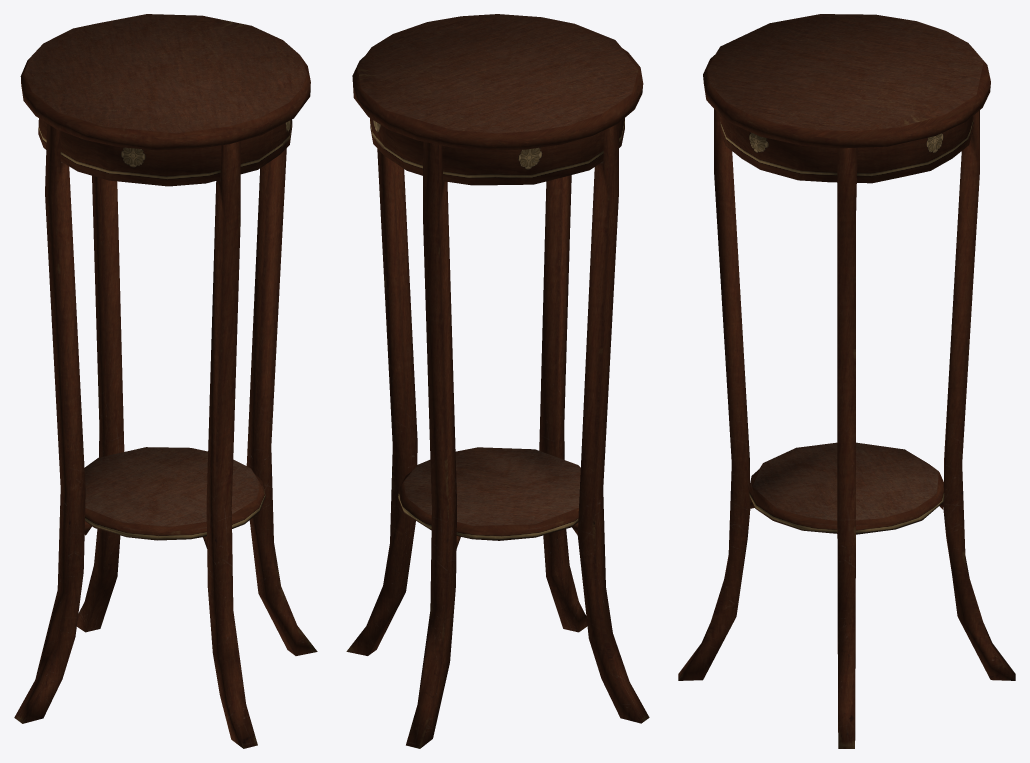
The model's file is side_table_tall_01_1k_LOD2.fbx.
The picture shows the model from 3 angles, left to right: view 1: azimuth 30°, elevation 25°; view 2: azimuth 150°, elevation 25°; view 3: azimuth 270°, elevation 25°; orthographic projection.
Visible parts, largest first — view 1: side_table_tall_01; view 2: side_table_tall_01; view 3: side_table_tall_01.
Boxes of the visible parts, box(x1,y1,x2,y2) form: side_table_tall_01: box(14, 14, 317, 748); side_table_tall_01: box(346, 14, 649, 748); side_table_tall_01: box(678, 14, 1015, 748).
Bounding box in the file's own units: 38.37 × 75.99 × 38.37.
